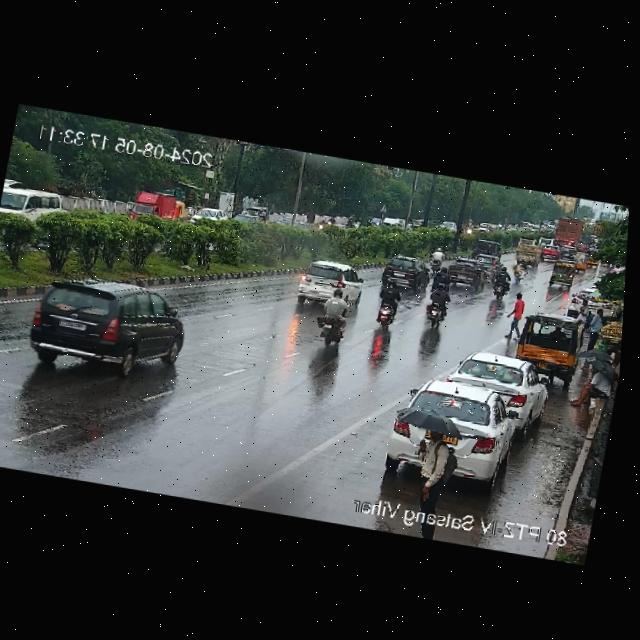car: (23, 263, 199, 385), (379, 374, 524, 493), (436, 345, 549, 437), (511, 308, 585, 374), (289, 257, 366, 312), (375, 250, 432, 298), (441, 255, 489, 288), (186, 201, 228, 230), (545, 258, 579, 292), (538, 239, 563, 267)
motorcycle: (311, 293, 355, 347), (418, 278, 456, 328), (371, 282, 405, 326), (486, 261, 516, 300), (429, 242, 445, 275), (512, 258, 526, 286)
person: (406, 402, 462, 513), (576, 363, 618, 413), (504, 291, 525, 344), (585, 306, 609, 347), (576, 289, 593, 328)
truck: (551, 212, 588, 250)
